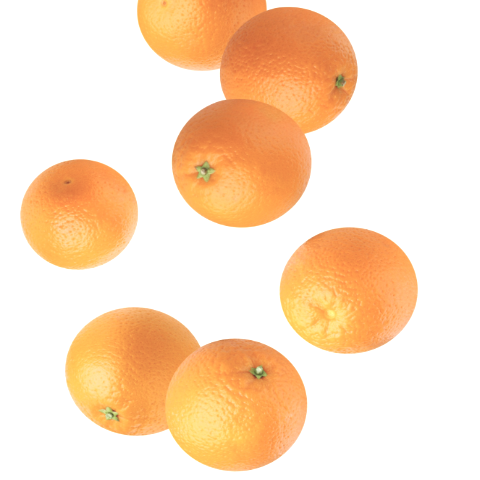orange: (157, 333, 315, 480), (273, 208, 429, 356), (207, 7, 379, 141), (56, 305, 212, 441), (162, 94, 315, 230), (17, 154, 138, 279), (128, 0, 269, 85)
